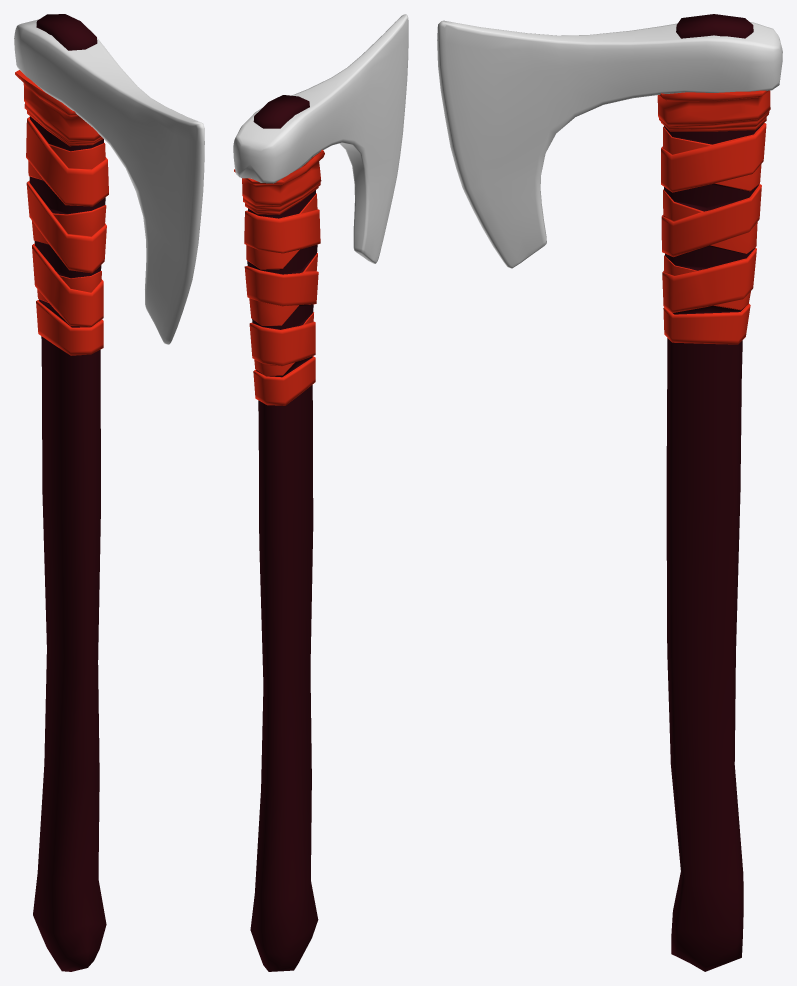
3 renders of one model, left to right at view 1: azimuth 30°, elevation 25°; view 2: azimuth 150°, elevation 25°; view 3: azimuth 270°, elevation 25°, orthographic. The views are drawn at different scales.
Visible parts, largest first — view 1: wood.004, metal.004; view 2: wood.004, metal.004; view 3: wood.004, metal.004.
Part boxes in pixels (bbox=[...]): wood.004: bbox=[15, 14, 108, 971]; metal.004: bbox=[14, 19, 204, 344]; wood.004: bbox=[234, 95, 324, 971]; metal.004: bbox=[233, 14, 408, 263]; wood.004: bbox=[657, 14, 770, 971]; metal.004: bbox=[437, 20, 782, 268].
Size of the model in its own units: 27.73 by 446 by 147.
